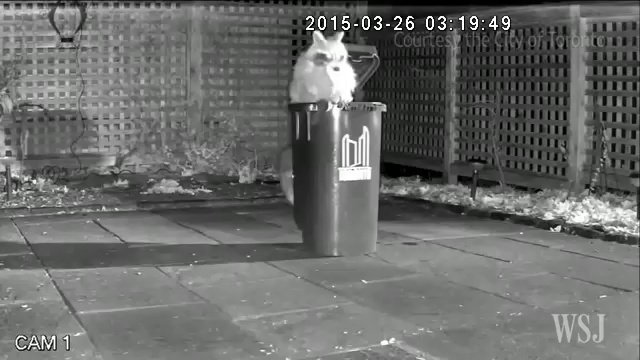raccoon: (288, 29, 364, 108)
